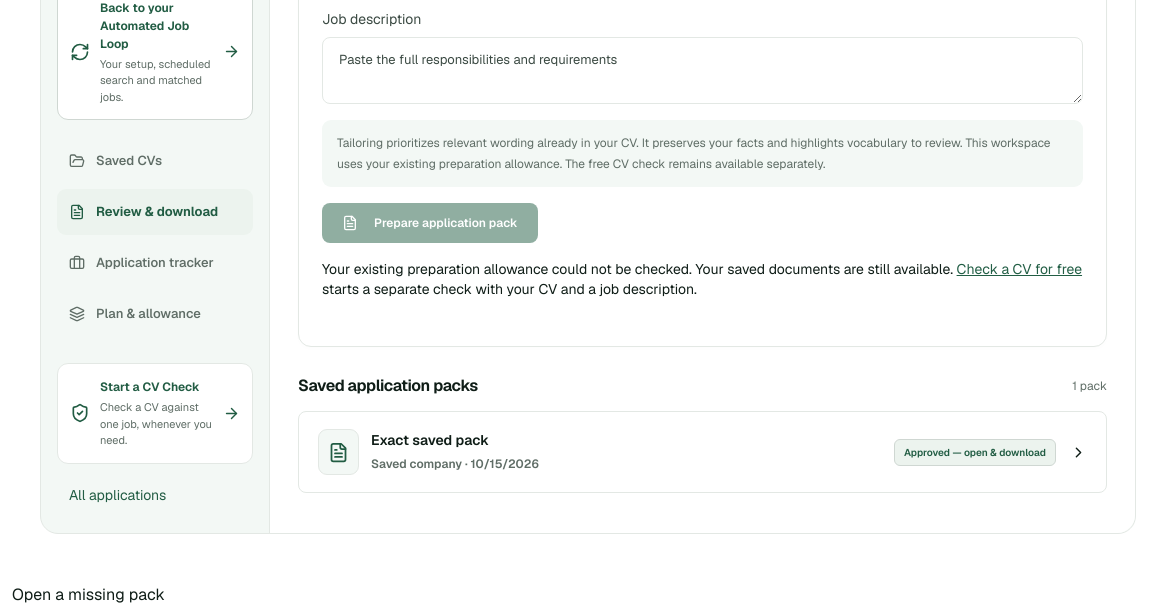
Test: independent exact application source review › opens a normal saved pack when choosing it changes the tab URL, and keeps it through ordinary tab navigation
(page scrolled)
Click the button that starts with "Exact saved pack": (338,452) [298,411,1107,493]
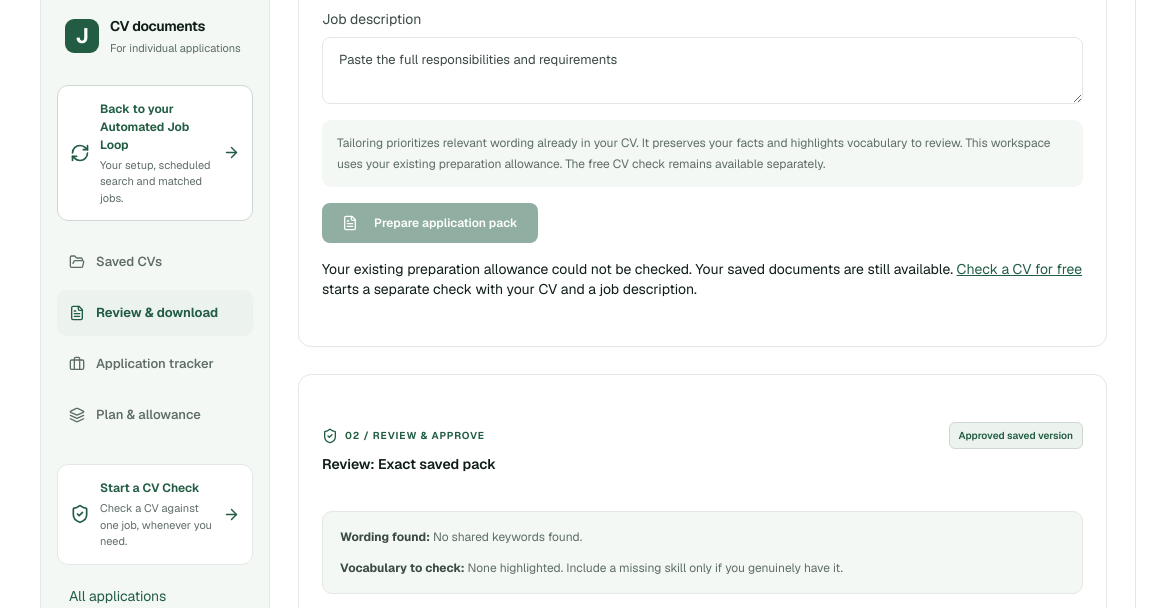
expect the text "Review: Exact saved pack" is shown: met, box [322,455,496,473]
Click the button "Application tracker": (155,364) [57,341,253,387]
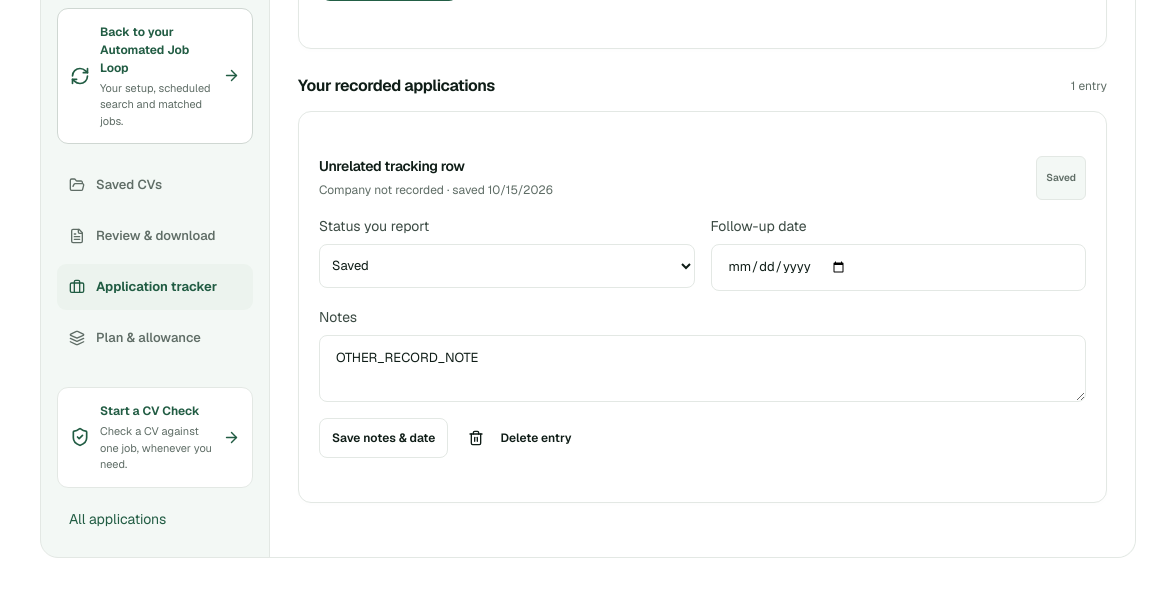
expect the text "Review: Exact saved pack" is gone: met
Click the button "Review & download": (155,236) [57,213,253,259]
(page scrolled)
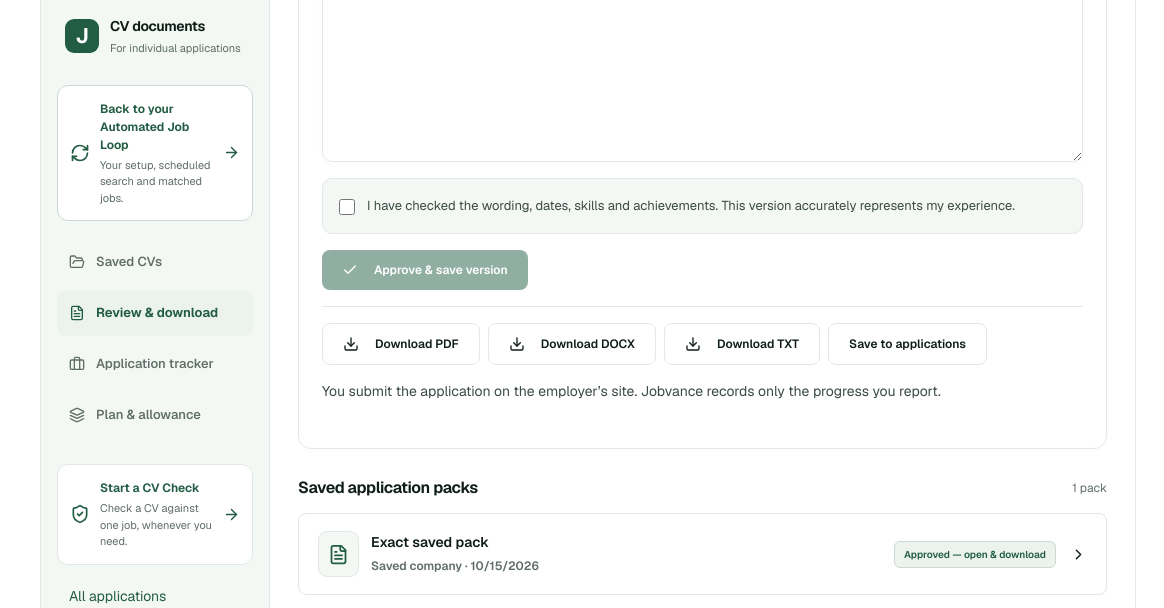
expect the button "Download TXT" is enabled: met, box [664,323,820,365]
